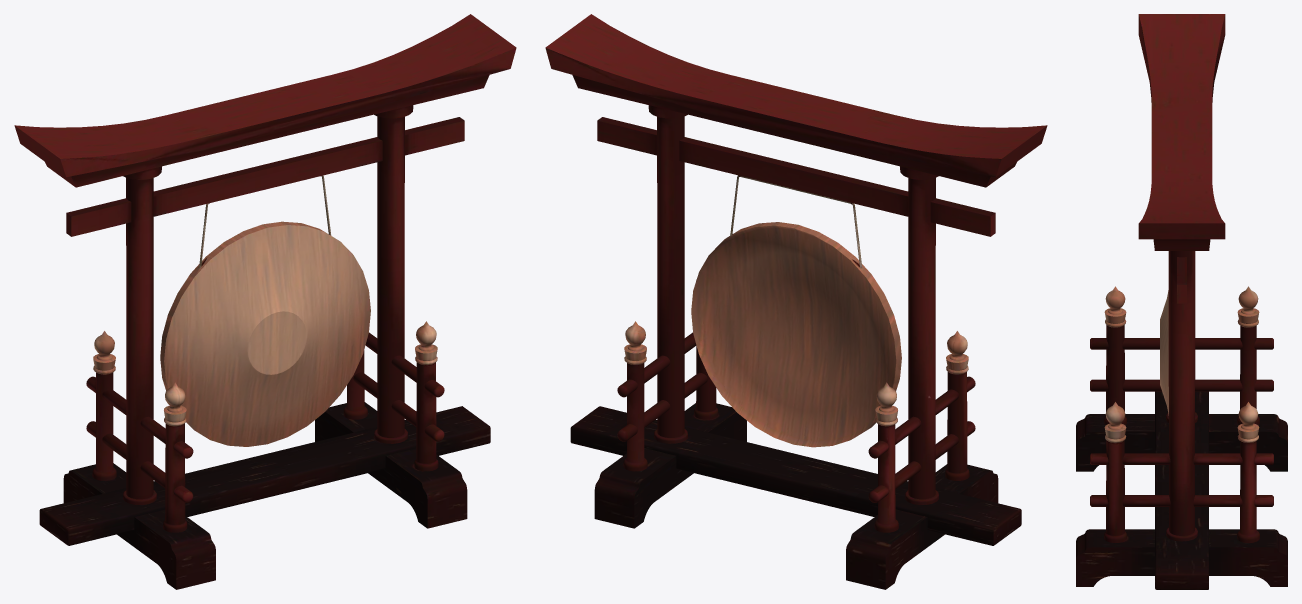
The model's file is gong.glb.
The picture shows the model from 3 angles, left to right: view 1: azimuth 30°, elevation 25°; view 2: azimuth 150°, elevation 25°; view 3: azimuth 270°, elevation 25°; orthographic projection. The views are drawn at different scales.
Visible parts, largest first — view 1: Gong triangulated_optimized_0; view 2: Gong triangulated_optimized_0; view 3: Gong triangulated_optimized_0.
Boxes of the visible parts, left/top/right/bottom form: Gong triangulated_optimized_0: left=14, top=14, right=516, bottom=589; Gong triangulated_optimized_0: left=545, top=14, right=1047, bottom=589; Gong triangulated_optimized_0: left=1076, top=14, right=1287, bottom=589.
Size of the model in its own units: 4.72 by 4.22 by 2.02.
Materials: 1 (1 with a texture image).
